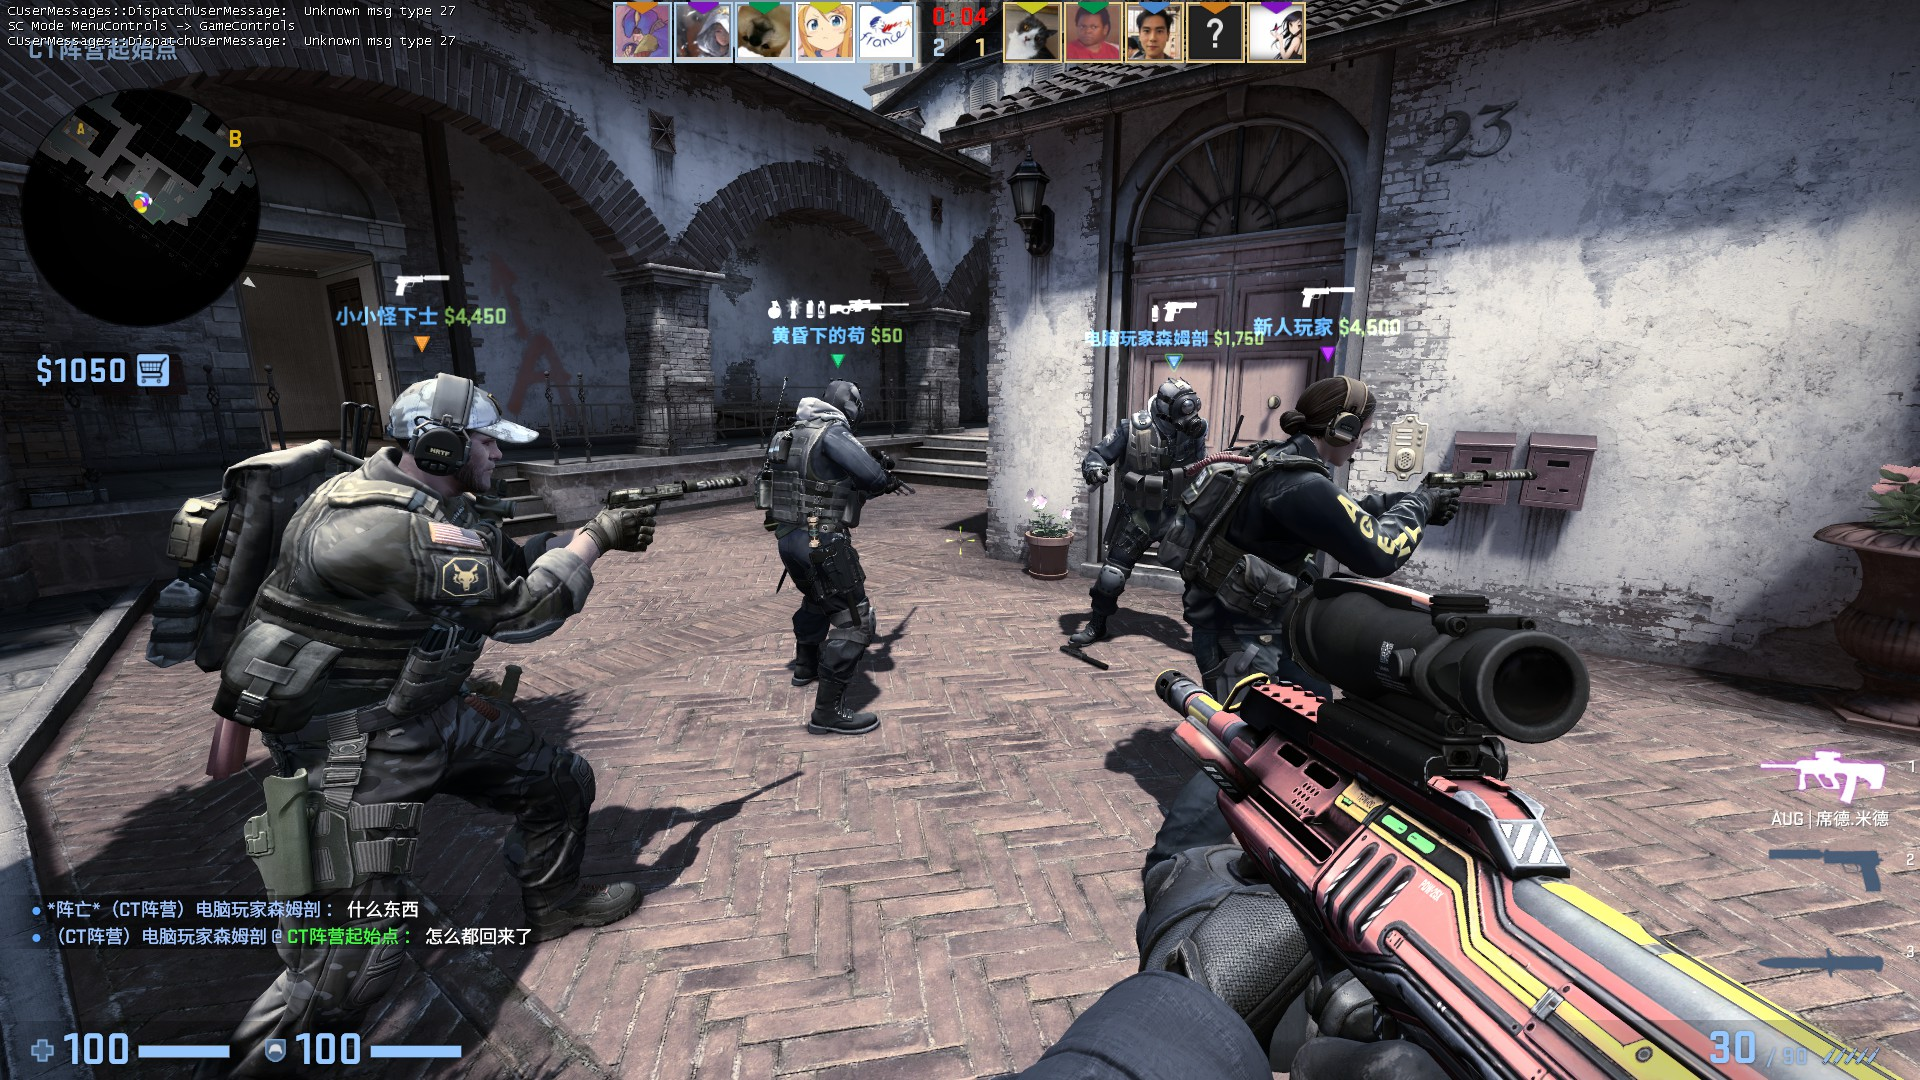head: (386, 370, 519, 503), (1279, 373, 1377, 464), (1155, 371, 1209, 437), (819, 377, 867, 423)
